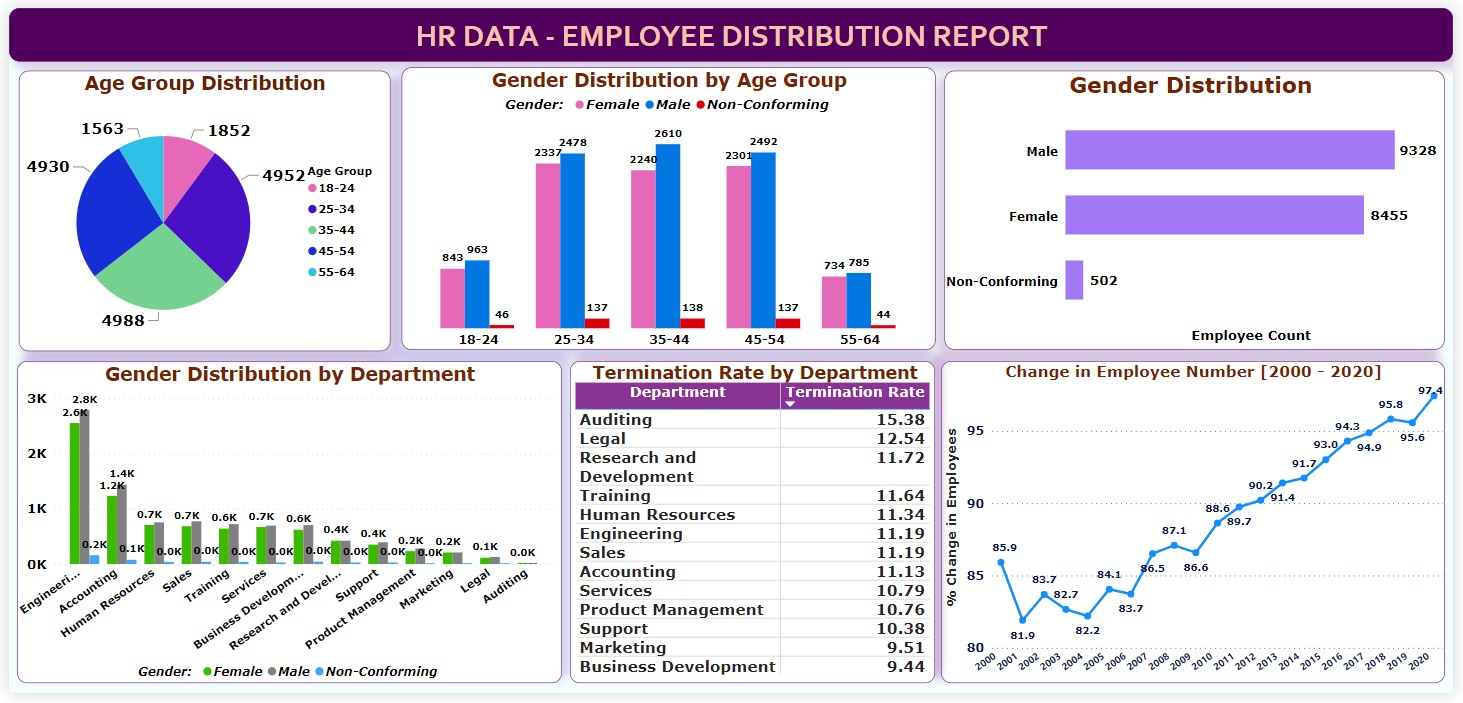

The page's visual inventory and layout, read from the dashboard file:
{"tool":"powerbi","page":{"name":"Page 2","canvas":[1750,830],"ordinal":1},"visuals":[{"type":"textbox","box":[0,0,1750,65],"z":0},{"type":"clusteredColumnChart","title":"Gender Distribution by Department","fields":{"Category":["Emp count by Dept and gender.department"],"Y":["Sum(Emp count by Dept and gender.Employee Count)"],"Series":["Emp count by Dept and gender.gender"]},"box":[10,427.5,660,390],"z":1000},{"type":"clusteredColumnChart","title":"Gender Distribution by Age Group","fields":{"Category":["Emp count by Age Group and Gender.Age_Group"],"Y":["Sum(Emp count by Age Group and Gender.Employee Count)"],"Series":["Emp count by Age Group and Gender.gender"]},"box":[475,72.5,647.5,342.5],"z":2000},{"type":"lineChart","title":"Change in Employee Number [2000 - 2020]","fields":{"Category":["Emp count by hires,terminations.year"],"Y":["Sum(Emp count by hires,terminations.net_change_percentage)"]},"box":[1130,427.5,610,390],"z":3000},{"type":"tableEx","title":"Termination Rate by Department","fields":{"Values":["Termination rate by department.department","Sum(Termination rate by department.Termination_rate)"]},"box":[680,427.5,442.5,390],"z":4000},{"type":"pieChart","title":"Age Group Distribution","fields":{"Y":["Sum(Emp count by Age Group.Employee Count)"],"Category":["Emp count by Age Group.Age_Group"]},"box":[12.5,75,450,340],"z":5000},{"type":"clusteredBarChart","title":"Gender Distribution","fields":{"Category":["Emp count by Gender.gender"],"Y":["Sum(Emp count by Gender.Employee Count)"]},"box":[1134,76,606,338],"z":6001}]}

Visuals, with their boxes in screenshot pixels (x1, y1, x2, y2), scaled from the page's 1750x830 canvas onto the 1463x703 screenshot:
textbox: Rect(0, 0, 1462, 55)
"Gender Distribution by Department" clusteredColumnChart: Rect(8, 362, 560, 692)
"Gender Distribution by Age Group" clusteredColumnChart: Rect(397, 61, 938, 352)
"Change in Employee Number [2000 - 2020]" lineChart: Rect(945, 362, 1455, 692)
"Termination Rate by Department" tableEx: Rect(568, 362, 938, 692)
"Age Group Distribution" pieChart: Rect(10, 64, 387, 352)
"Gender Distribution" clusteredBarChart: Rect(948, 64, 1455, 351)
